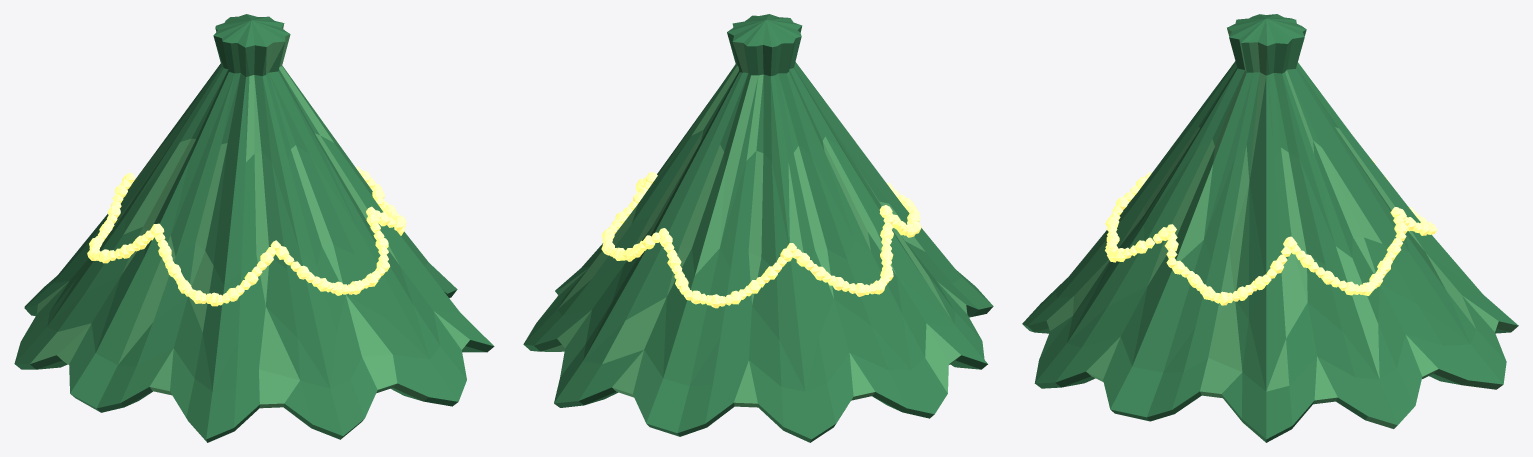
The model's file is Pieza_Rama.glb.
The picture shows the model from 3 angles, left to right: view 1: azimuth 30°, elevation 25°; view 2: azimuth 150°, elevation 25°; view 3: azimuth 270°, elevation 25°; orthographic projection.
Visible parts, largest first — view 1: Pieza_Rama; view 2: Pieza_Rama; view 3: Pieza_Rama.
Part boxes in pixels (x1,y1,x2,y2): Pieza_Rama: (14,14,494,442); Pieza_Rama: (523,14,993,442); Pieza_Rama: (1022,14,1518,442).
Size of the model in its own units: 0.7042 by 0.5393 by 0.7397.
